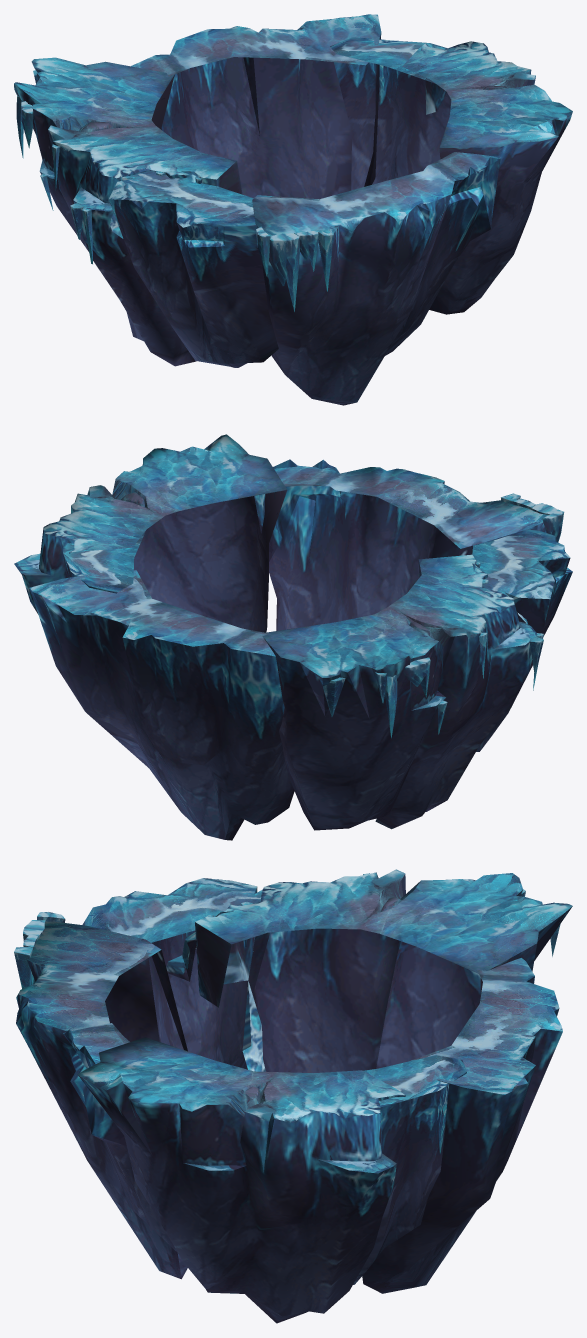
File: xs_taizi_2.FBX
3 views of the same model, one above another, from view 1: azimuth 30°, elevation 25°; view 2: azimuth 150°, elevation 25°; view 3: azimuth 270°, elevation 25° (orthographic). The views are drawn at different scales.
Parts seen in each view (by area): view 1: xs_taizi_2; view 2: xs_taizi_2; view 3: xs_taizi_2.
Boxes of the visible parts, x1,y1,x2,y2 form: xs_taizi_2: [14, 14, 572, 405]; xs_taizi_2: [14, 434, 572, 840]; xs_taizi_2: [14, 869, 572, 1323].
Size of the model in its own units: 17006 by 9025 by 15140.
